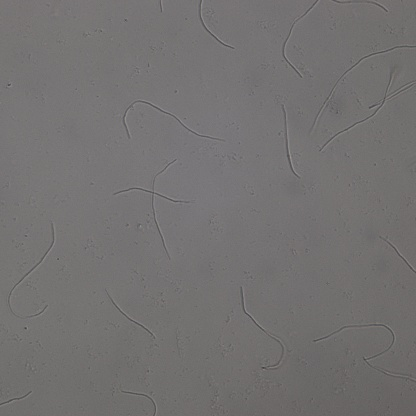Sensitive: (310, 40, 416, 131), (113, 158, 190, 261), (318, 71, 396, 151), (120, 95, 226, 142), (8, 222, 57, 320), (238, 287, 286, 370), (313, 323, 396, 360), (281, 1, 320, 78), (105, 289, 156, 339), (193, 1, 235, 50), (278, 103, 301, 180), (382, 236, 416, 274), (121, 387, 160, 416)
